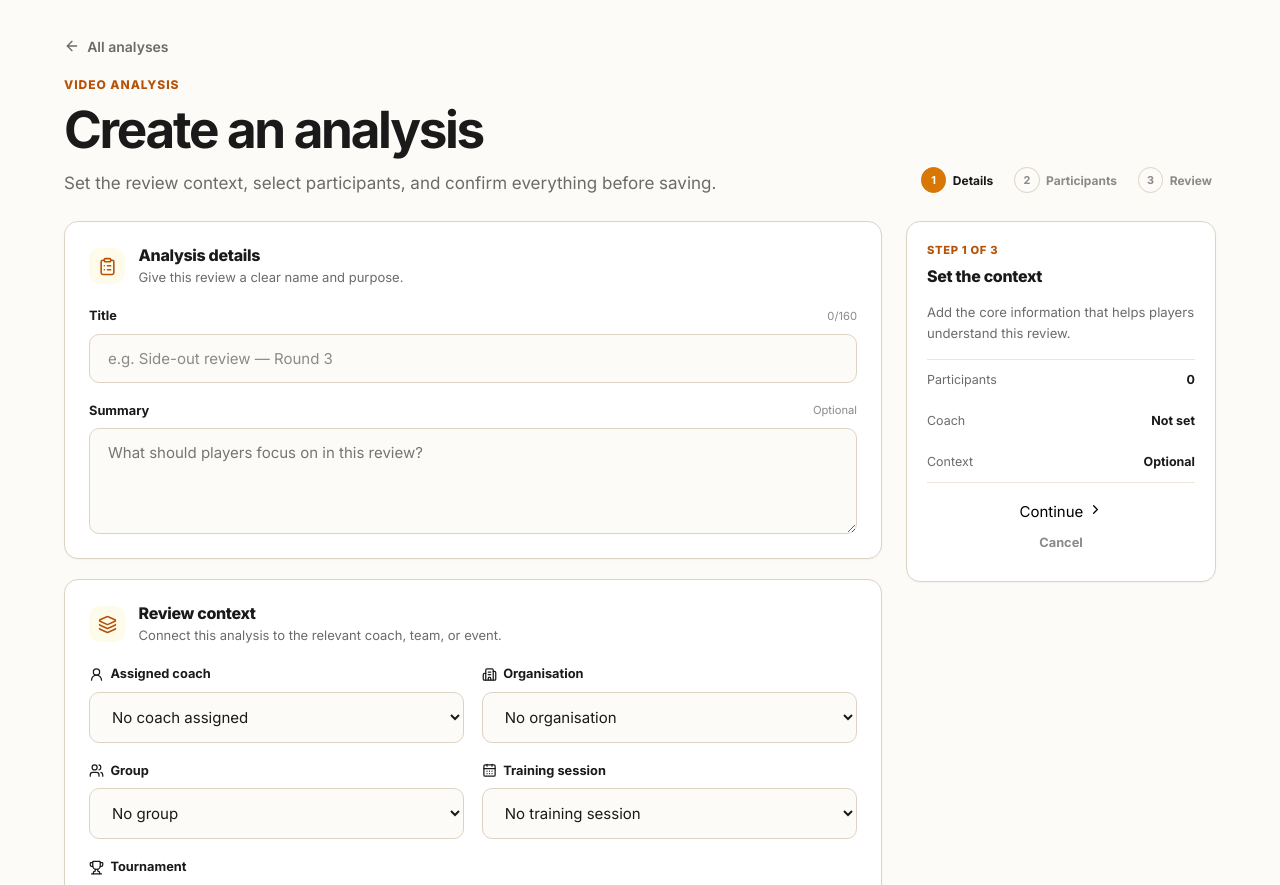
it: AnalysisFormPage steps › navigates through Participants and Review while preserving selections
Expected: the heading "Analysis details" is shown, 139,245 -> 260,265
Step 1. Type "Side-out review" into the field labelled "Title" → (473, 358), box 89,334 -> 857,383
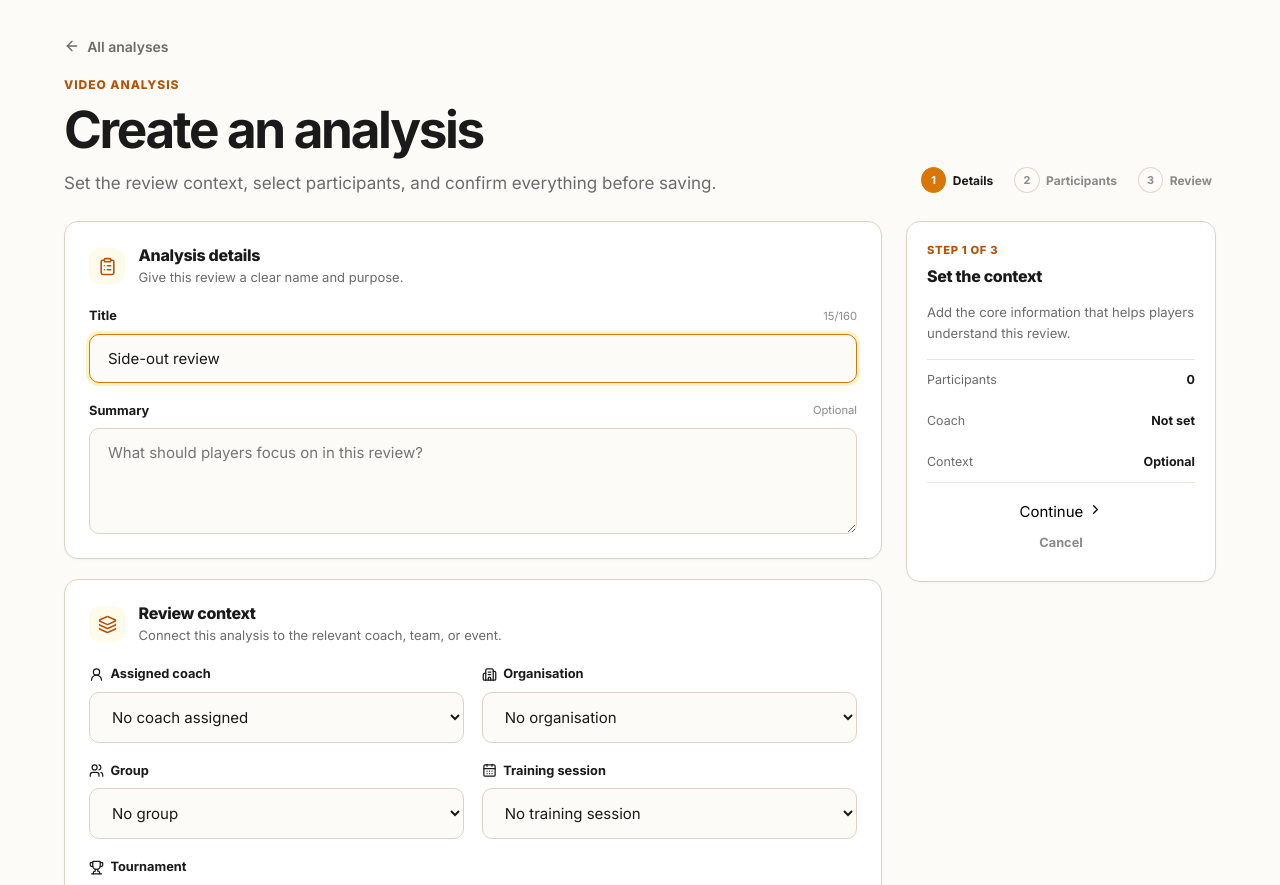
Step 2. Select "Coach Ana" in the dropdown labelled "Assigned coach" → (277, 718), box 89,692 -> 464,743
(page scrolled)
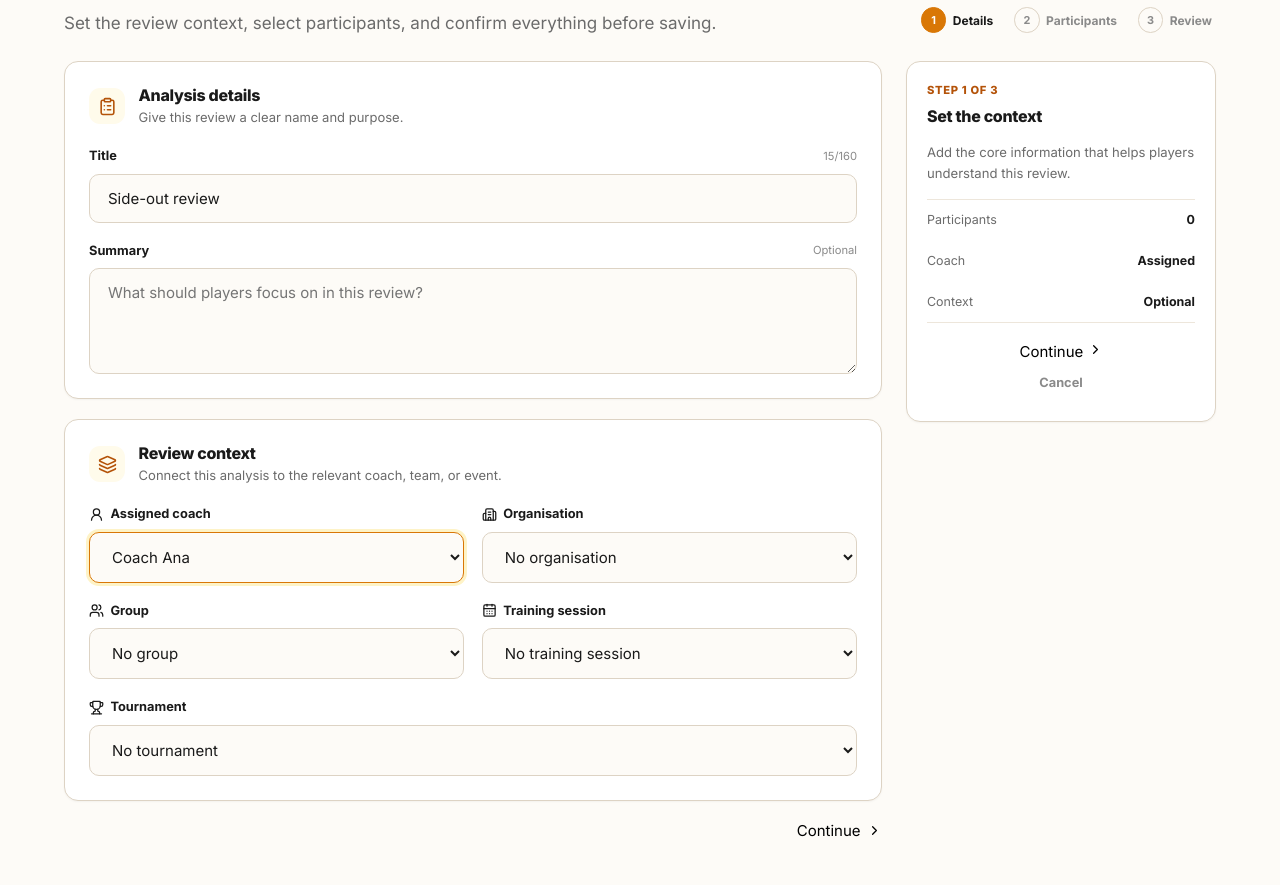
Step 3. Click the button "Continue" below "Training session" → (839, 830), box 797,821 -> 882,840
(page scrolled)
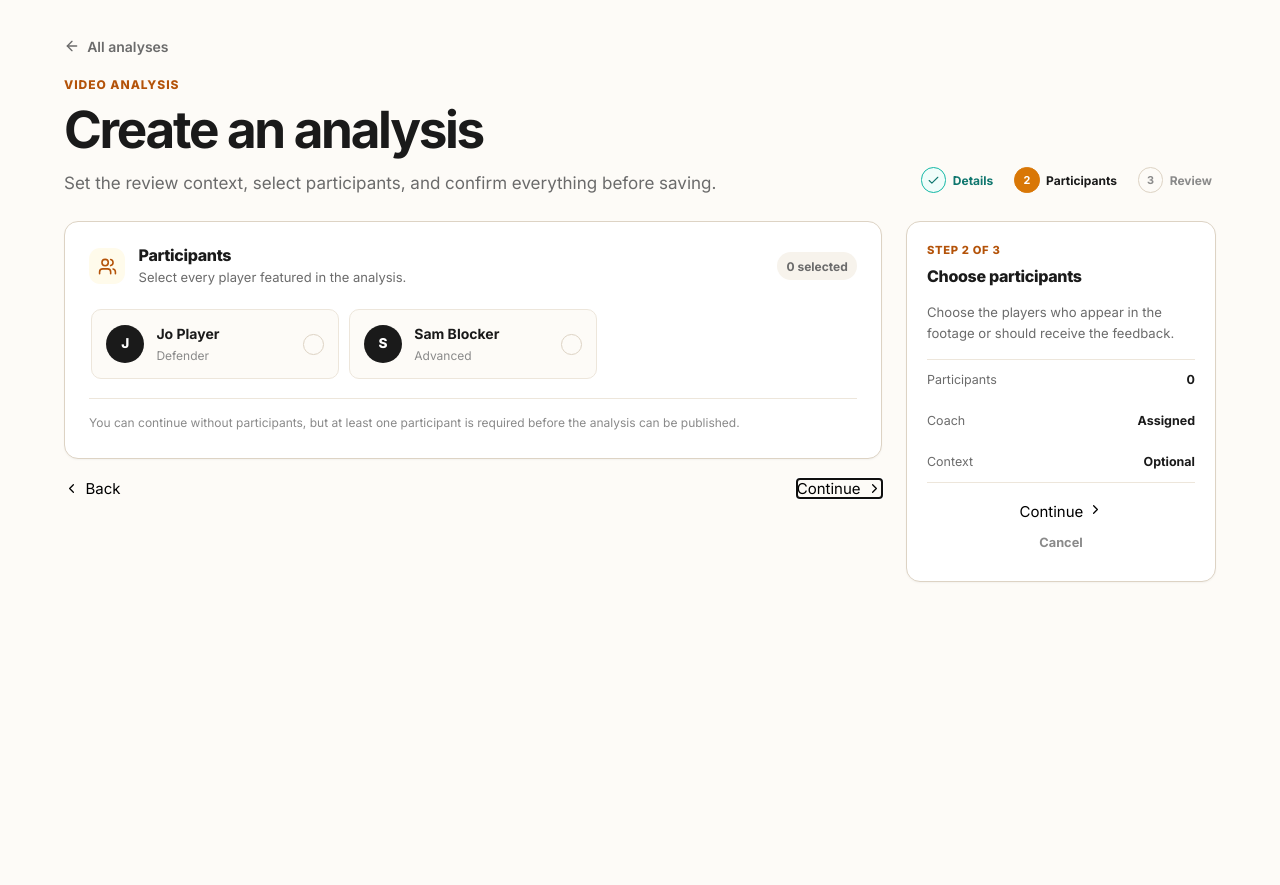
Expected: the heading "Participants" is shown, 139,245 -> 231,265
Step 4. Click the text "Jo Player" → (188, 334), box 156,325 -> 220,342
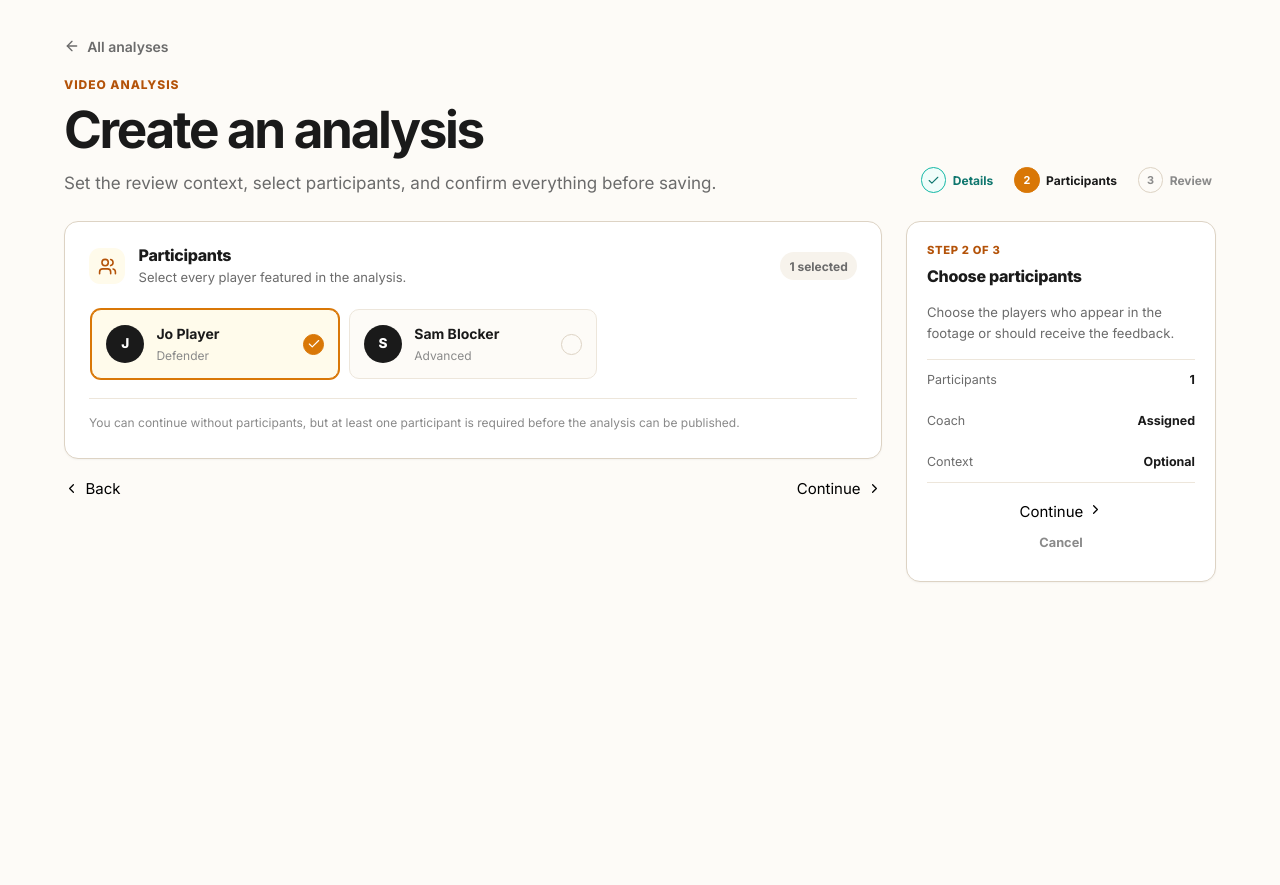
Expected: the text "1 selected" is shown, 780,252 -> 857,280
Step 5. Click the button "Continue" below "selected" → (839, 488), box 797,479 -> 882,498
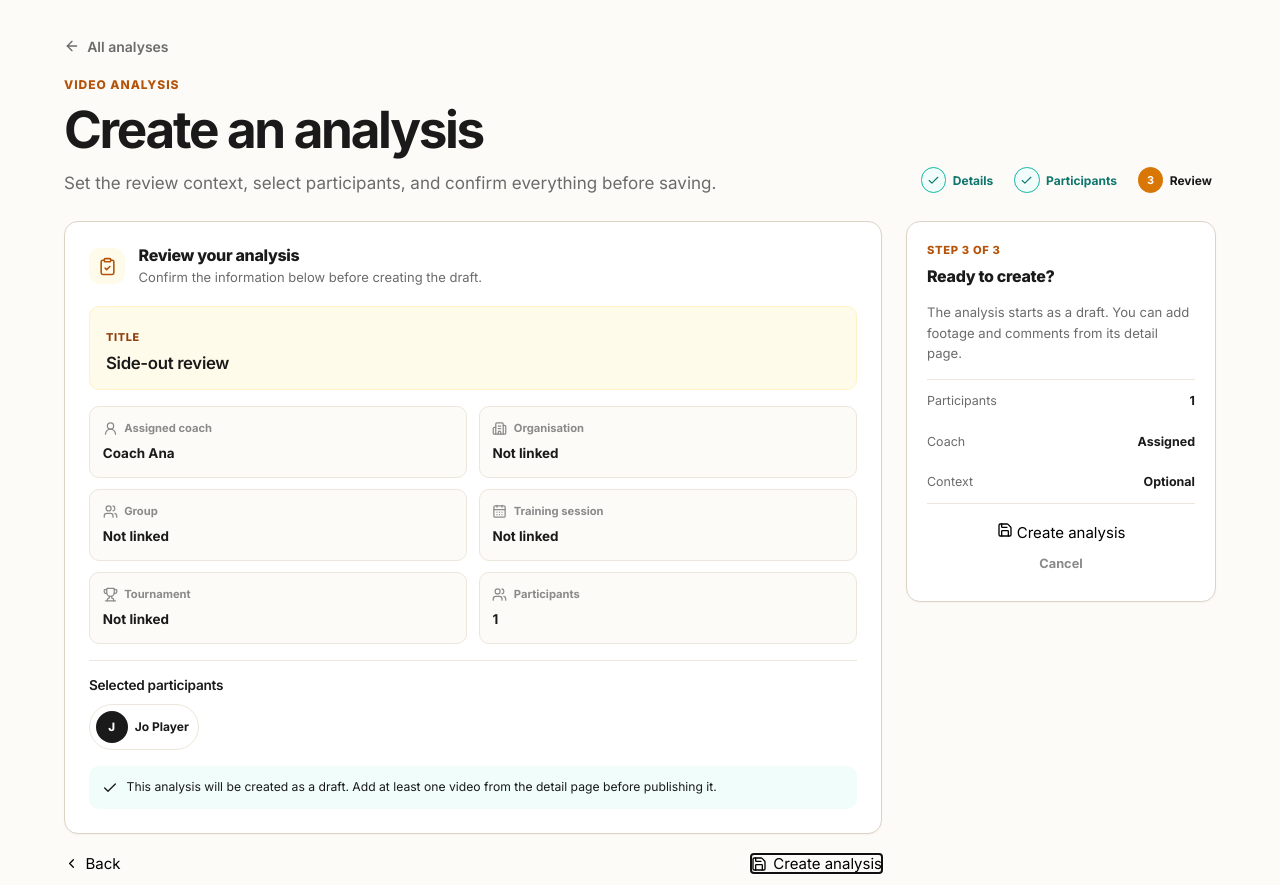
Expected: the heading "Review your analysis" is shown, 139,245 -> 299,265
Expected: the heading "Side-out review" is shown, 106,353 -> 229,373
Expected: the text "Coach Ana" is shown, 103,445 -> 175,461
